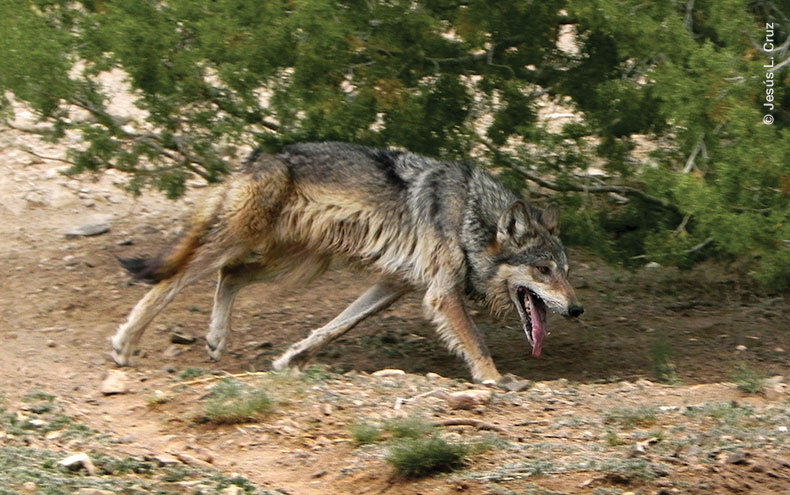Lobo: (96, 119, 589, 392)
